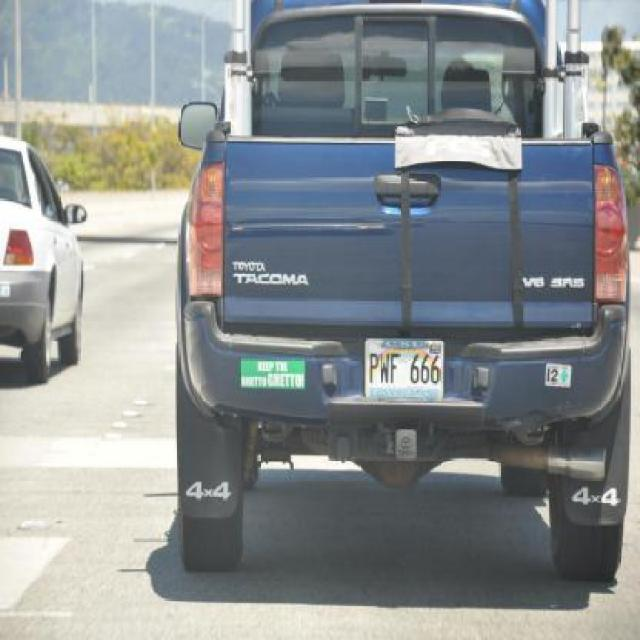License-Plates: (364, 338, 443, 400)
